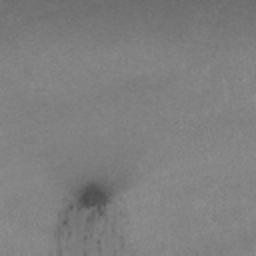Iron sheet ash: (78, 181, 109, 255), (56, 239, 63, 256), (97, 234, 101, 256), (67, 228, 72, 242), (68, 202, 74, 211), (61, 219, 69, 225)
